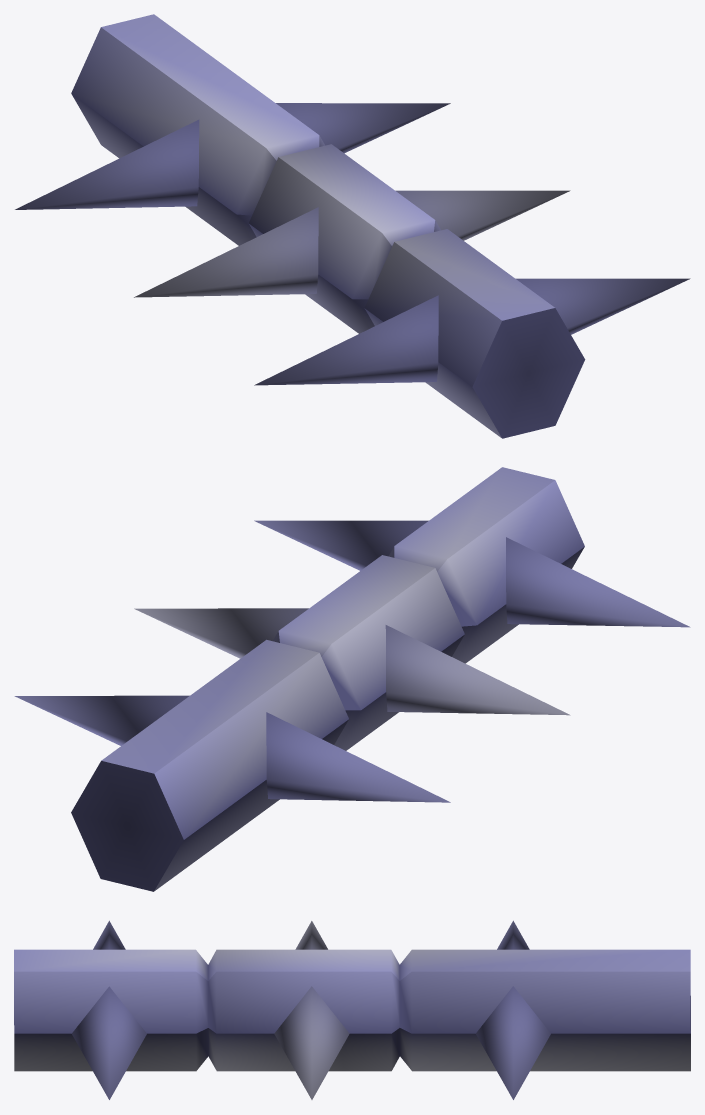
The model's file is toy__grinder_beam_ugc_a_000_1x1.glb.
The picture shows the model from 3 angles, top to bottom: view 1: azimuth 30°, elevation 25°; view 2: azimuth 150°, elevation 25°; view 3: azimuth 270°, elevation 25°; orthographic projection. The views are drawn at different scales.
Visible parts, largest first — view 1: Visual_2; view 2: Visual_2; view 3: Visual_2.
Boxes of the visible parts, box(x1,y1,x2,y2) form: Visual_2: box(15, 14, 690, 438); Visual_2: box(14, 467, 690, 891); Visual_2: box(14, 920, 690, 1099).
Bounding box in the file's own units: 1.94 × 0.5009 × 3.08.
